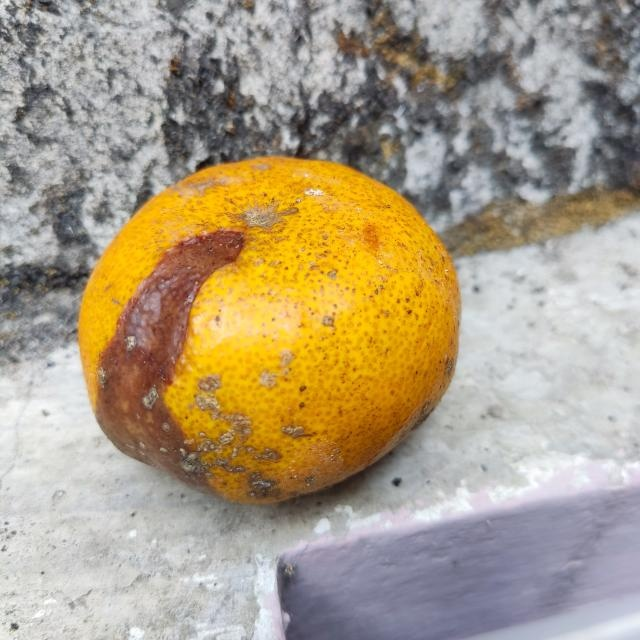agrume: (75, 155, 462, 504)
